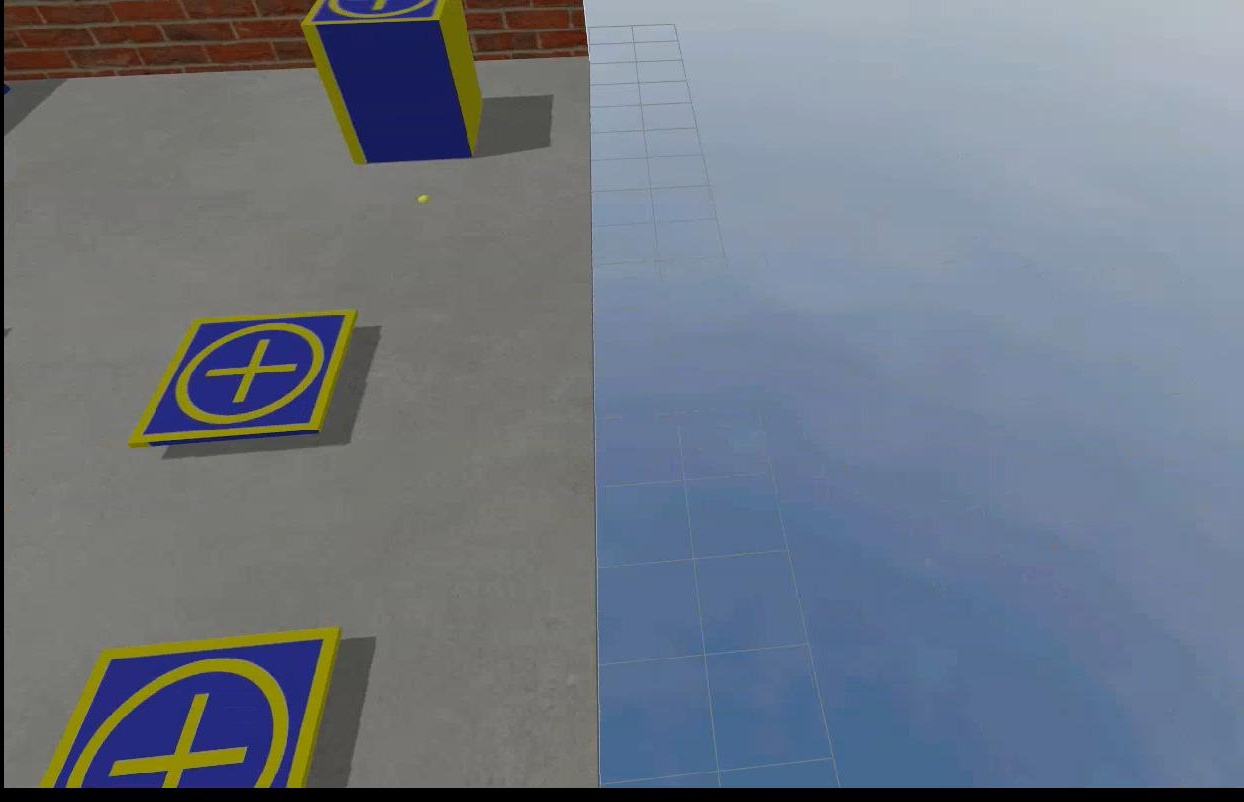small_base: (41, 625, 336, 788), (125, 308, 356, 447), (299, 1, 444, 30)
